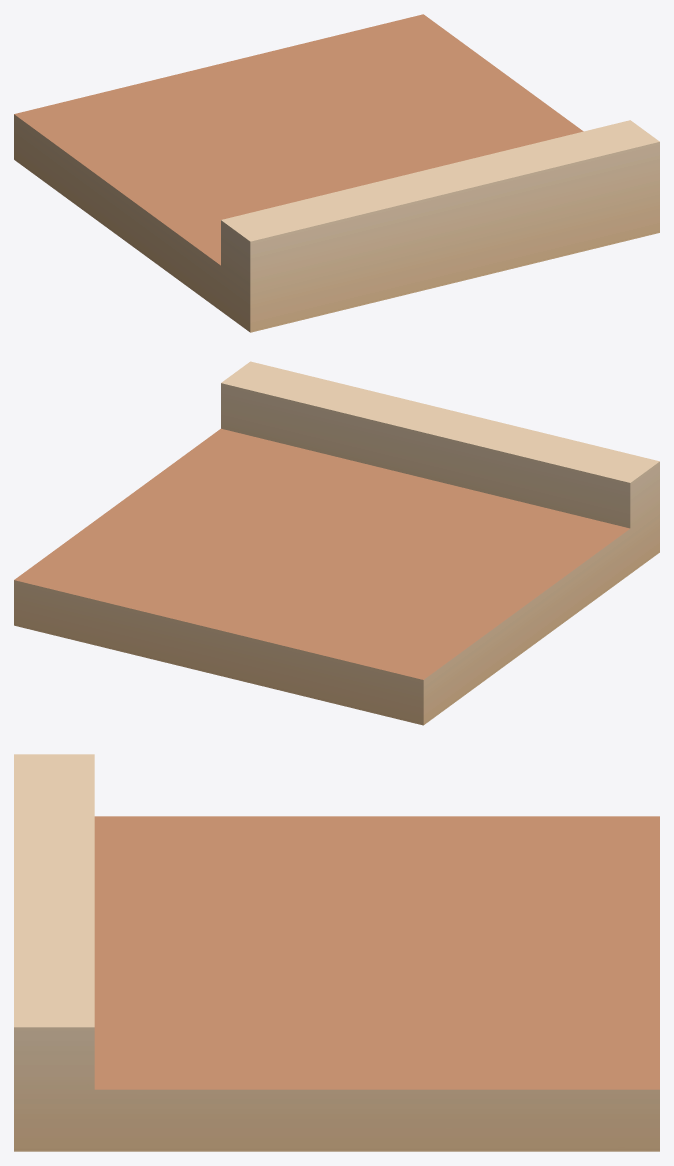
The model's file is roof-flat-border-side.glb.
3 views of the same model, one above another, from view 1: azimuth 30°, elevation 25°; view 2: azimuth 150°, elevation 25°; view 3: azimuth 270°, elevation 25° (orthographic). The views are drawn at different scales.
Parts seen in each view (by area): view 1: roof-flat-border-side; view 2: roof-flat-border-side; view 3: roof-flat-border-side.
Part boxes in pixels (x1,y1,x2,y2): roof-flat-border-side: (14, 14, 659, 332); roof-flat-border-side: (14, 361, 659, 725); roof-flat-border-side: (14, 754, 659, 1151).
Bounding box in the file's own units: 1 × 0.2125 × 1.
1 material, 1 textured.
